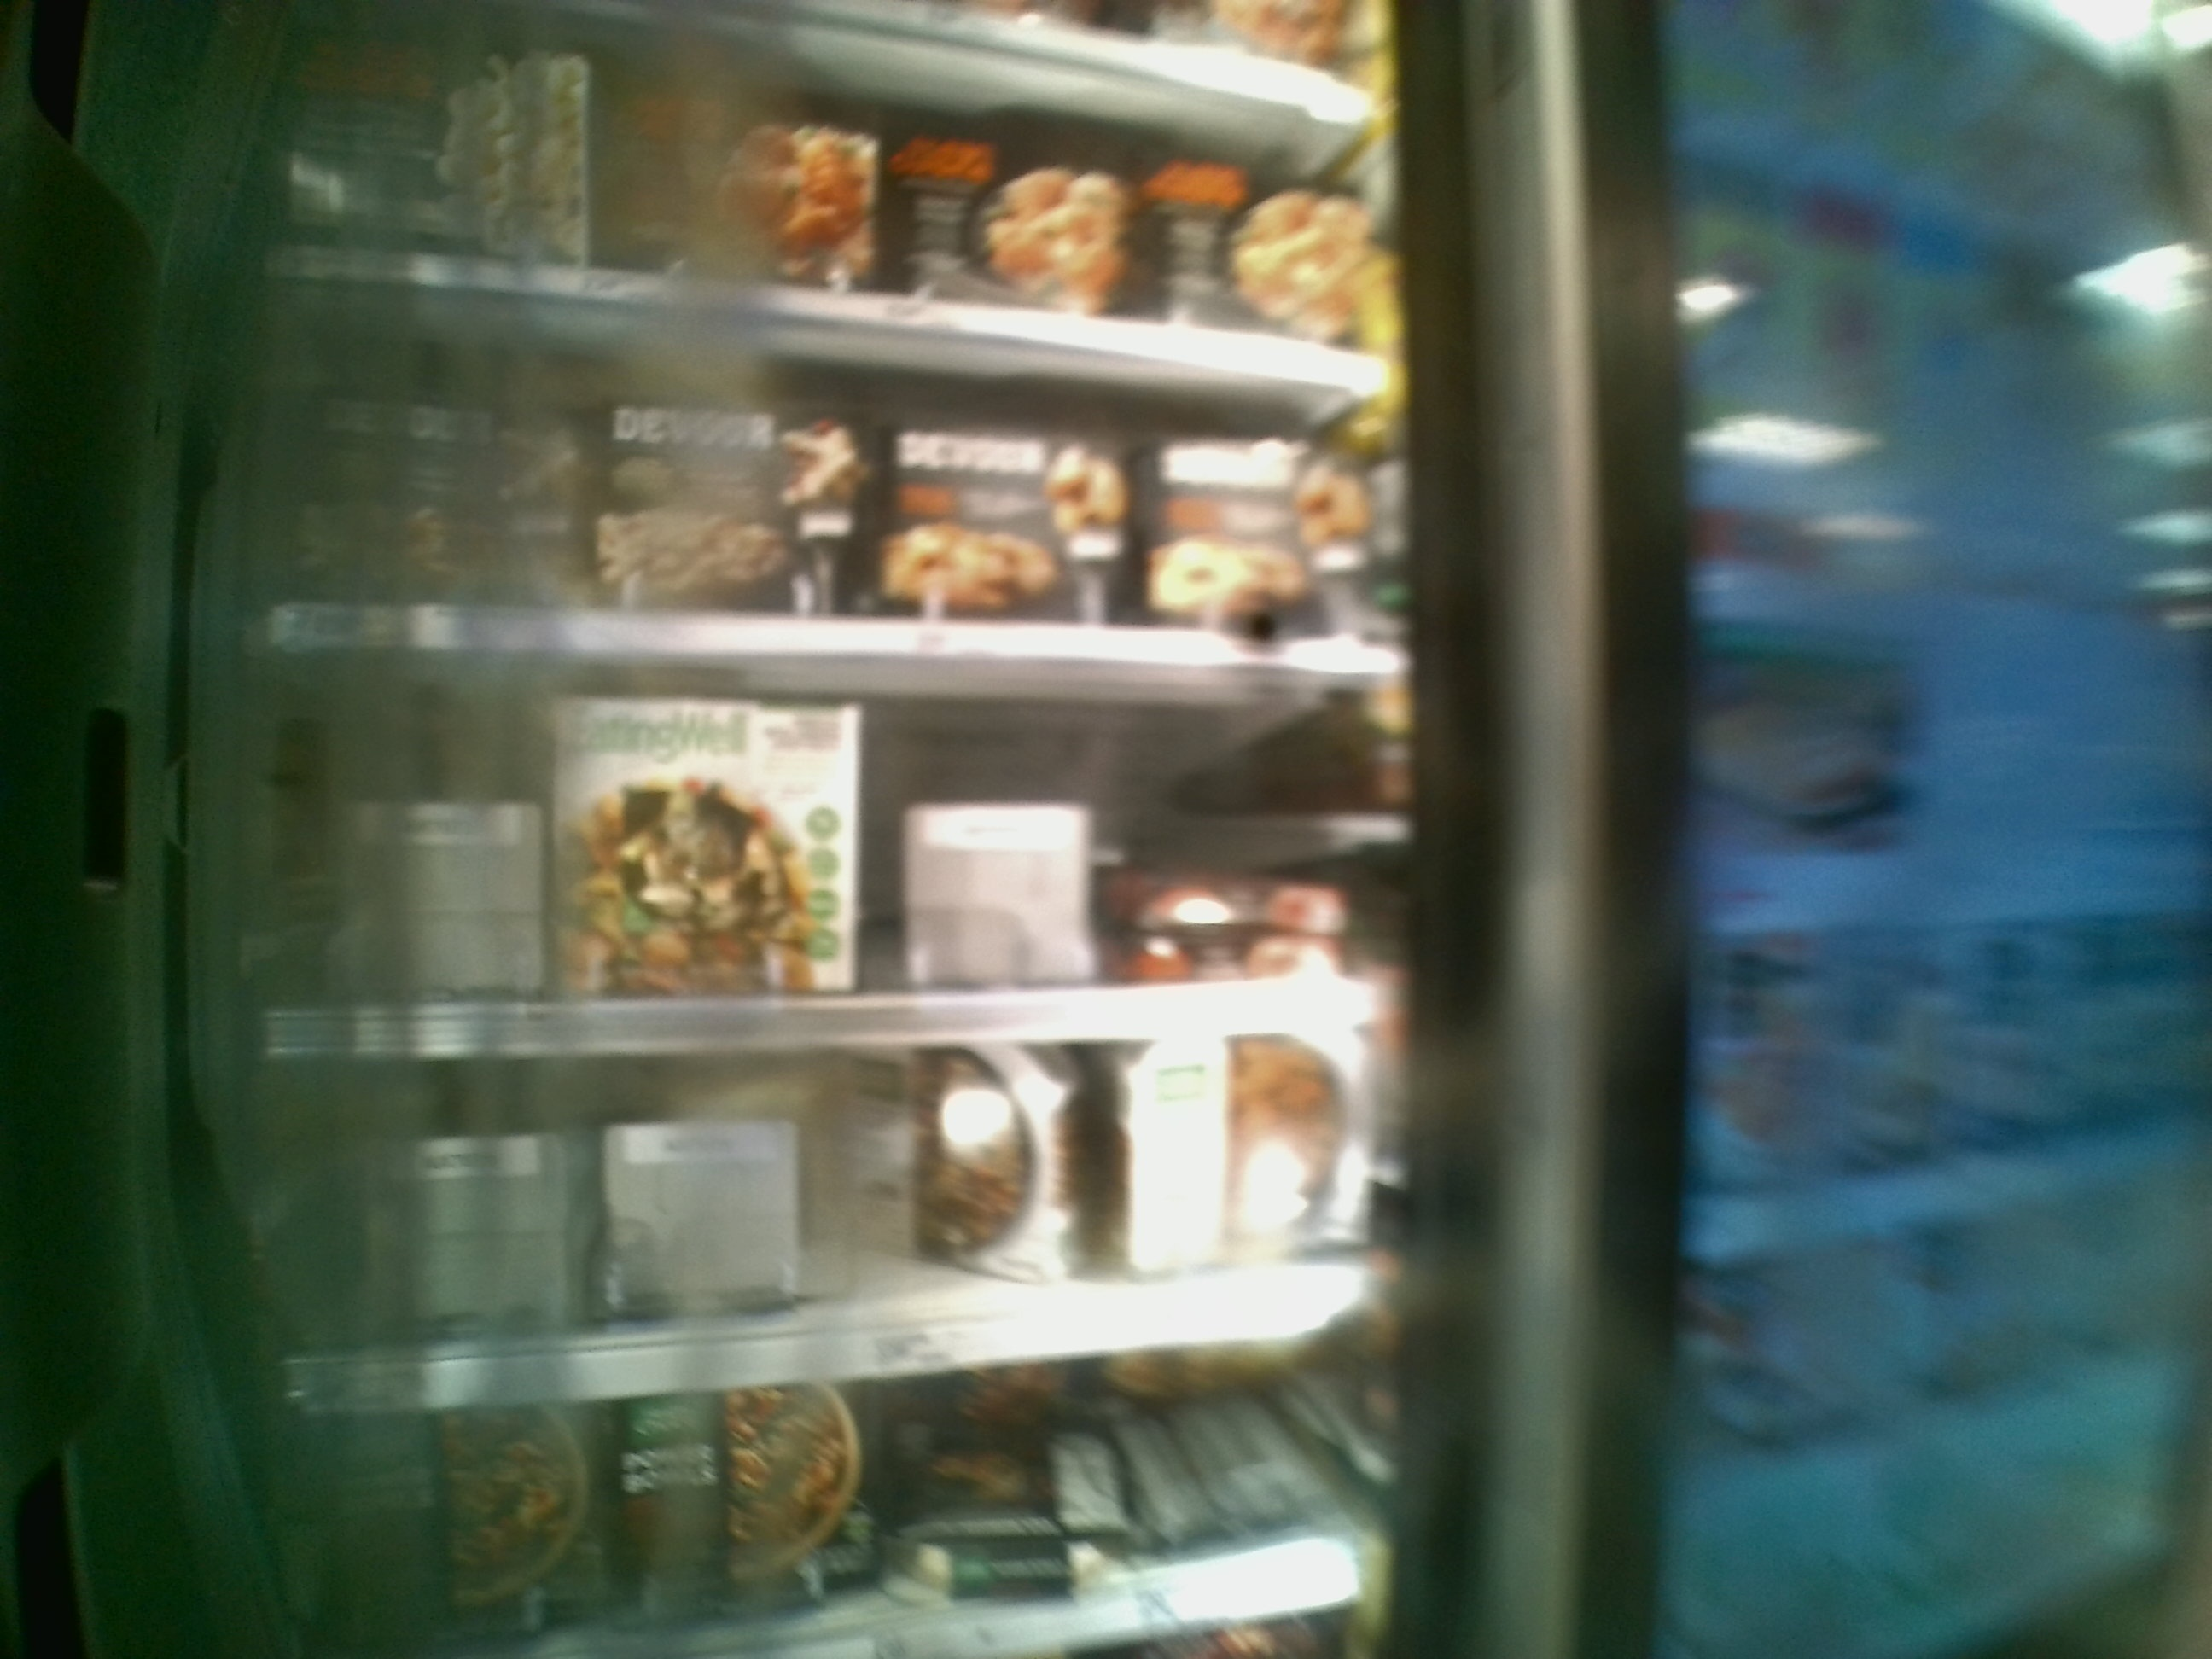shelf: (258, 647, 1413, 1054), (258, 1023, 1418, 1405), (273, 279, 1418, 648)
